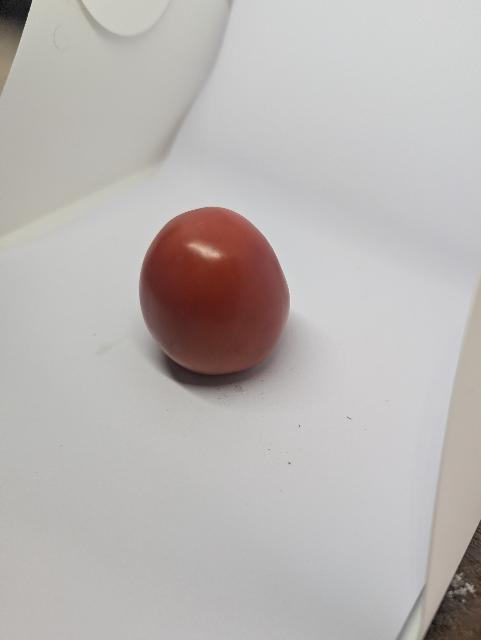red: (132, 199, 294, 390)
